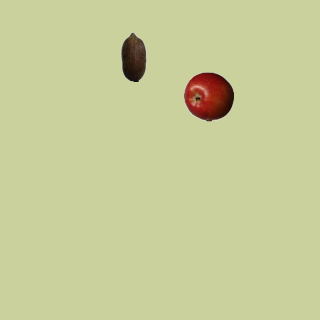Apple Braeburn: (183, 71, 233, 121)
Nut Pecan: (108, 31, 158, 81)
